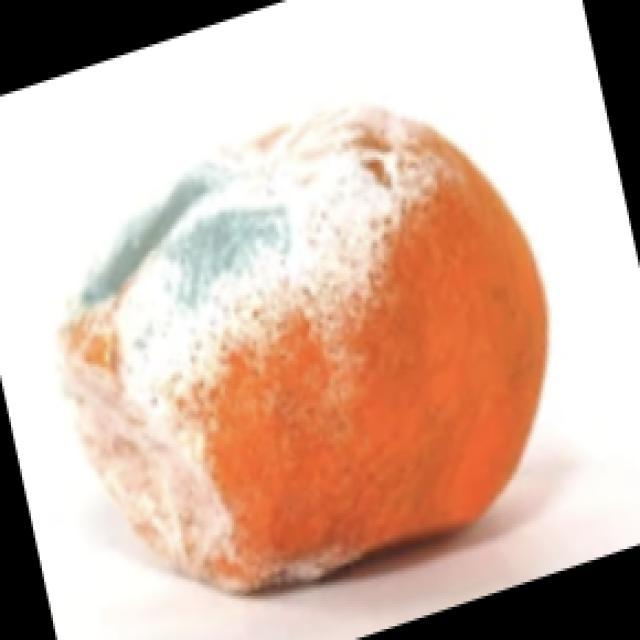sangat-busuk: (61, 108, 547, 590)
